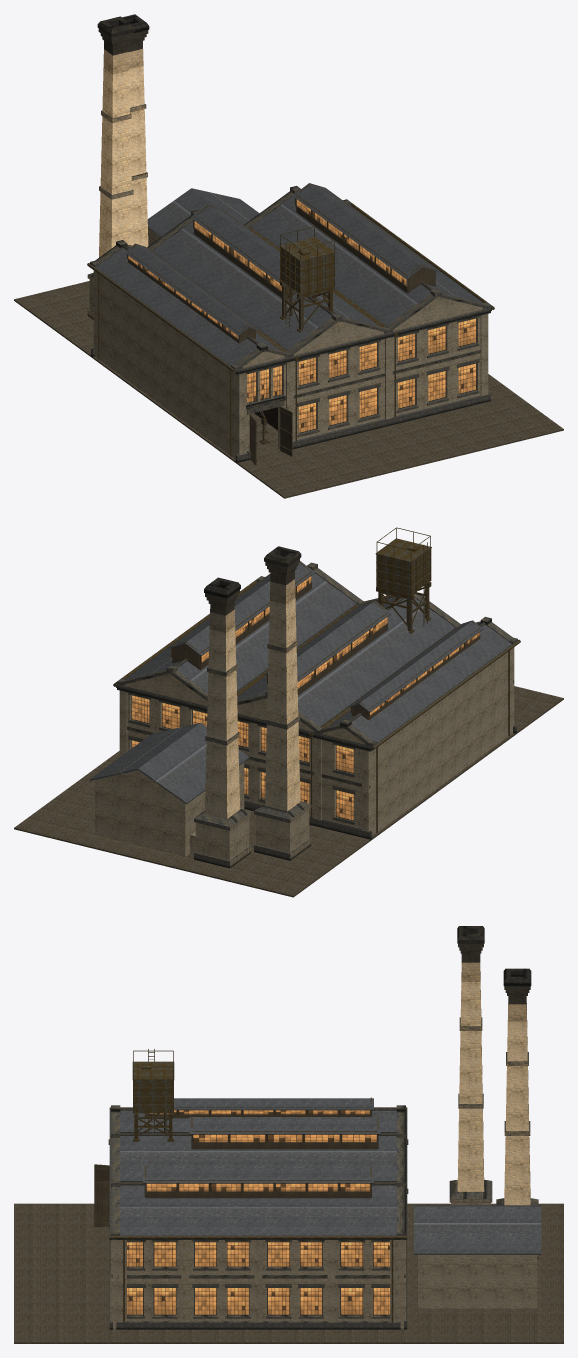
Rendered from no-2-flat-out-factory.glb.
3 views of the same model, one above another, from view 1: azimuth 30°, elevation 25°; view 2: azimuth 150°, elevation 25°; view 3: azimuth 270°, elevation 25° (orthographic).
Parts seen in each view (by area): view 1: no-2-mill-roof, no-2-mill-walls, no-2-yard-setts, no-2-mill-stonework, no-2-chimney-a, no-2-chimney-b, no-2-mill-ironwork, no-2-mill-timber, no-2-water-tank, no-2-boiler-house-building, no-2-tank-trestle; view 2: no-2-mill-roof, no-2-mill-walls, no-2-yard-setts, no-2-boiler-house-building, no-2-chimney-a, no-2-chimney-b, no-2-mill-stonework, no-2-mill-ironwork, no-2-water-tank, no-2-mill-timber, no-2-tank-trestle, no-2-window-back-ground-01 (+1 smaller); view 3: no-2-mill-roof, no-2-yard-setts, no-2-boiler-house-building, no-2-mill-walls, no-2-mill-stonework, no-2-chimney-a, no-2-chimney-b, no-2-mill-timber, no-2-mill-ironwork, no-2-water-tank, no-2-tank-trestle, no-2-loading-door-right (+12 smaller).
Part boxes in pixels (left/top/right/bottom): no-2-mill-roof: left=96, top=183, right=483, bottom=365; no-2-mill-walls: left=93, top=270, right=488, bottom=458; no-2-yard-setts: left=14, top=281, right=563, bottom=498; no-2-mill-stonework: left=90, top=186, right=491, bottom=462; no-2-chimney-a: left=87, top=16, right=134, bottom=319; no-2-chimney-b: left=122, top=14, right=149, bottom=247; no-2-mill-ironwork: left=87, top=188, right=494, bottom=456; no-2-mill-timber: left=128, top=183, right=435, bottom=343; no-2-water-tank: left=279, top=237, right=335, bottom=294; no-2-boiler-house-building: left=147, top=188, right=259, bottom=245; no-2-tank-trestle: left=280, top=226, right=335, bottom=332; no-2-mill-roof: left=124, top=561, right=511, bottom=742; no-2-mill-walls: left=119, top=647, right=514, bottom=835; no-2-yard-setts: left=14, top=686, right=563, bottom=897; no-2-boiler-house-building: left=89, top=723, right=249, bottom=856; no-2-chimney-a: left=254, top=546, right=311, bottom=860; no-2-chimney-b: left=194, top=577, right=250, bottom=868; no-2-mill-stonework: left=116, top=562, right=517, bottom=839; no-2-mill-ironwork: left=113, top=571, right=520, bottom=832; no-2-water-tank: left=375, top=538, right=431, bottom=595; no-2-mill-timber: left=172, top=562, right=480, bottom=719; no-2-tank-trestle: left=376, top=527, right=431, bottom=633; no-2-window-back-ground-01: left=336, top=790, right=353, bottom=820; no-2-mill-roof: left=120, top=1098, right=396, bottom=1235; no-2-yard-setts: left=14, top=1203, right=563, bottom=1343; no-2-boiler-house-building: left=414, top=1205, right=541, bottom=1308; no-2-mill-walls: left=110, top=1239, right=406, bottom=1328; no-2-mill-stonework: left=109, top=1105, right=407, bottom=1329; no-2-chimney-a: left=449, top=926, right=492, bottom=1205; no-2-chimney-b: left=496, top=968, right=538, bottom=1259; no-2-mill-timber: left=144, top=1097, right=378, bottom=1198; no-2-mill-ironwork: left=108, top=1107, right=408, bottom=1322; no-2-water-tank: left=132, top=1061, right=174, bottom=1113; no-2-tank-trestle: left=133, top=1049, right=173, bottom=1141; no-2-loading-door-right: left=94, top=1181, right=109, bottom=1227.
Bounding box in the file's own units: 25.05 × 25.1 × 41.4.
Materials: 25 (24 with a texture image).
